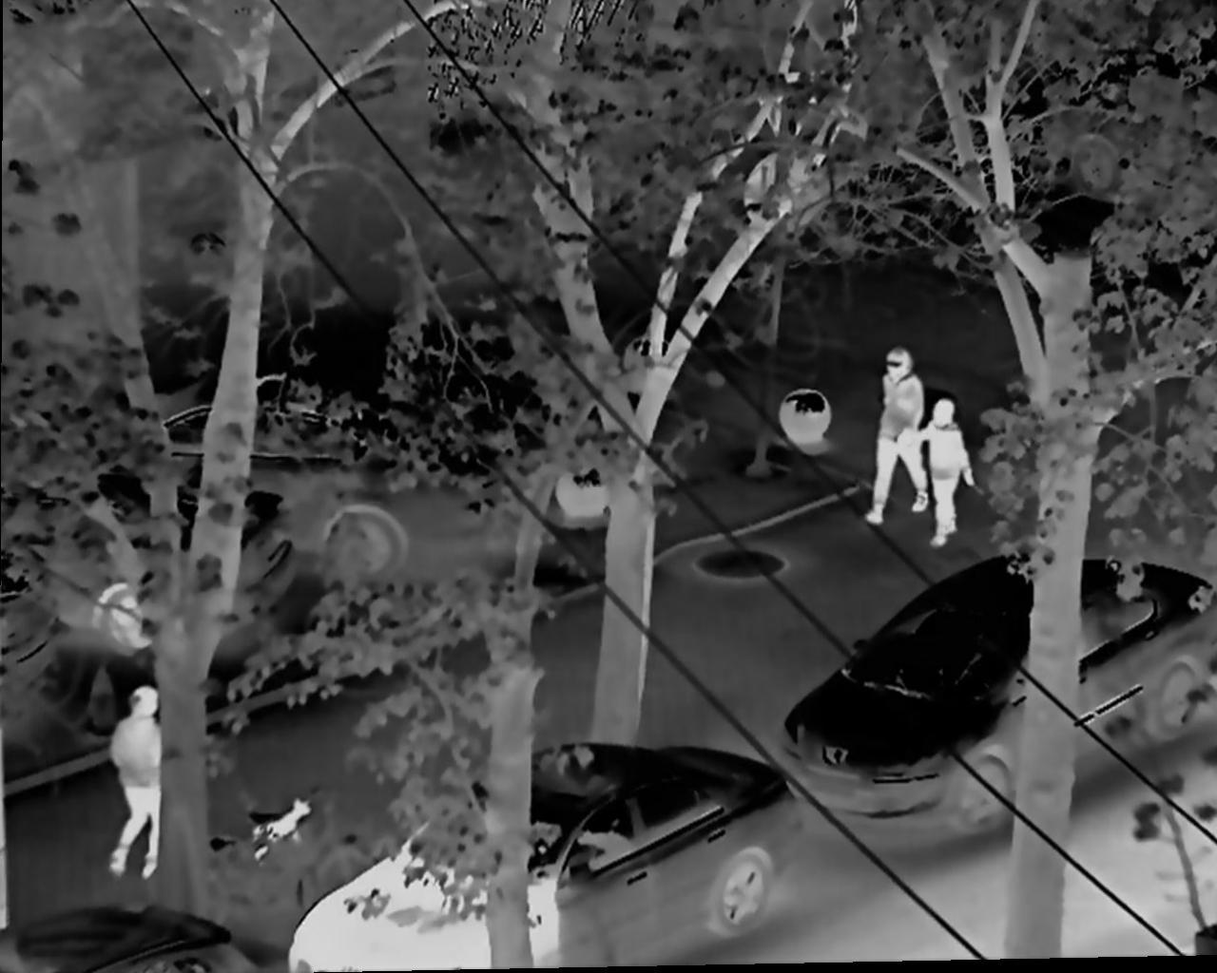person: (101, 685, 164, 875), (864, 350, 926, 525), (920, 393, 978, 550)
